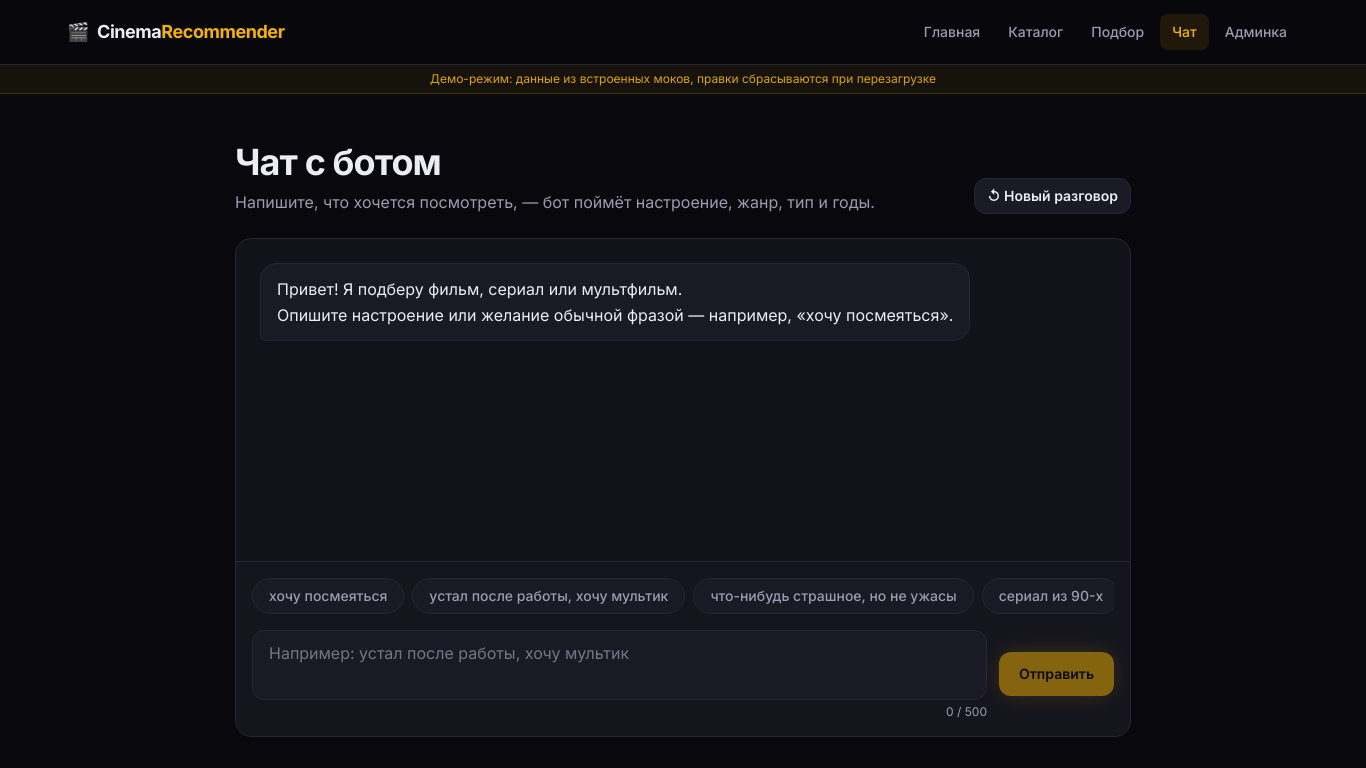
Чат › контекст из ответа уходит со следующим сообщением
Type "хочу посмеяться" into the text box named "Сообщение" at (620, 665), box [252, 630, 987, 700]
Then press Enter
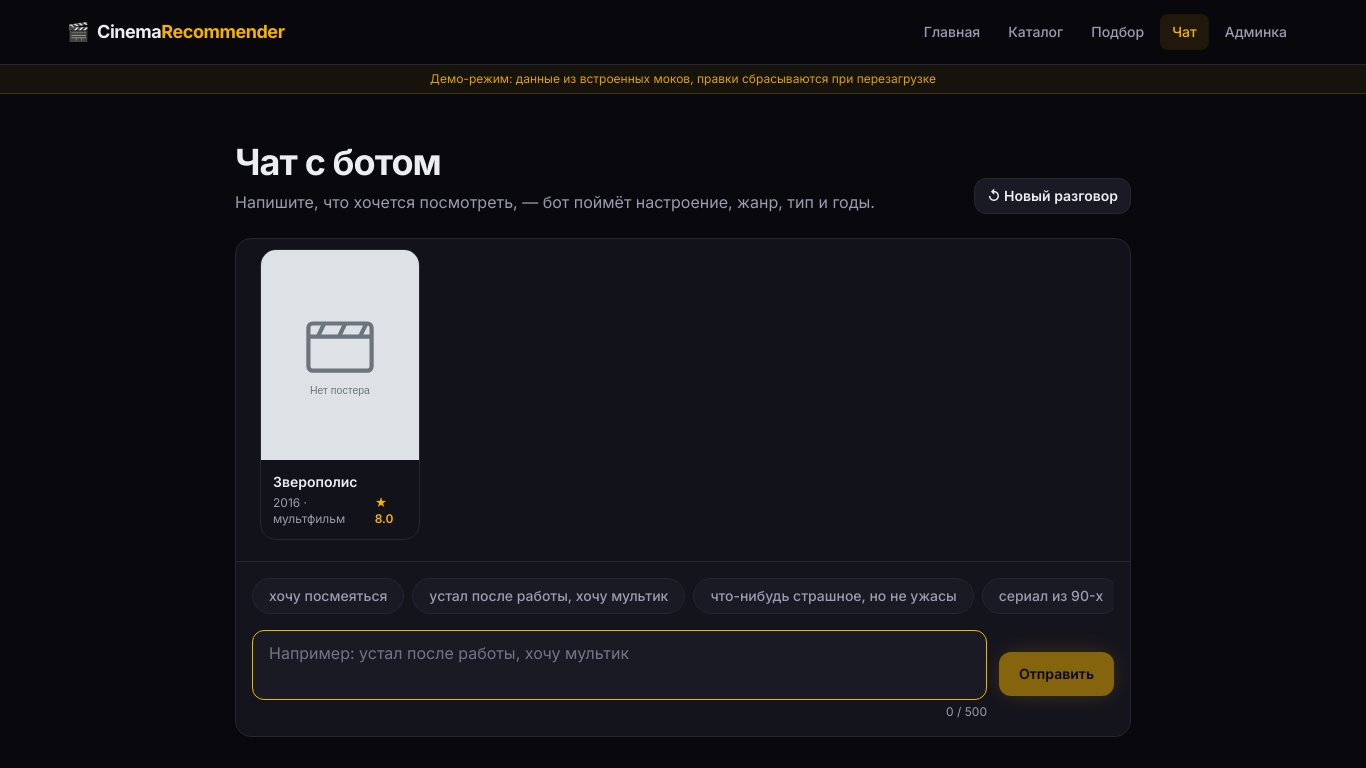
Type "ещё" into the text box named "Сообщение" at (620, 665), box [252, 630, 987, 700]
Then press Enter
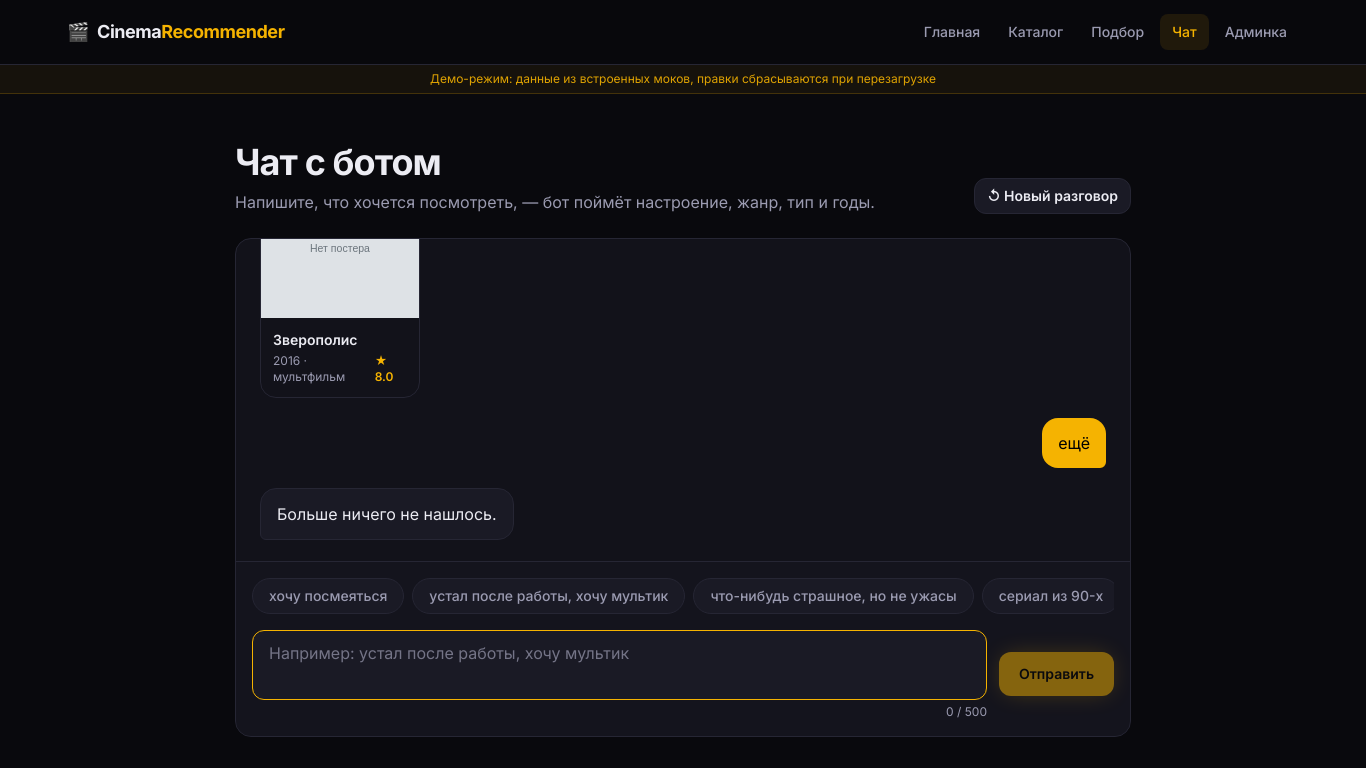
Result: the text "Больше ничего не нашлось." is shown at [260, 488, 514, 540]
